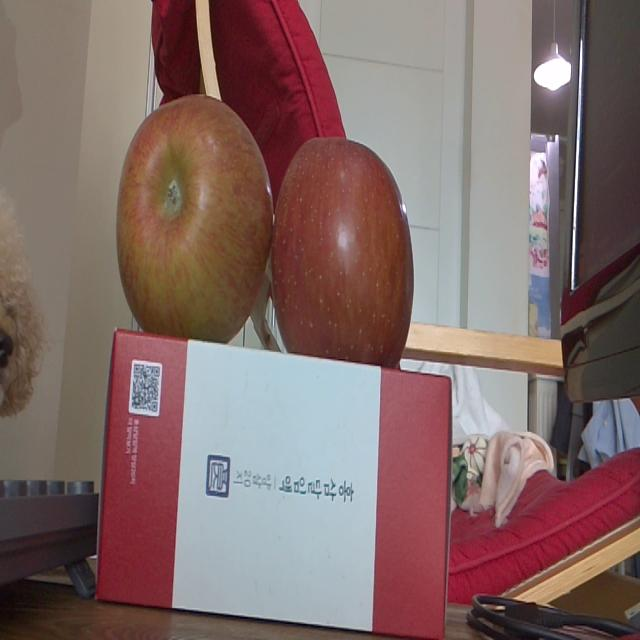apple: (117, 94, 270, 328), (274, 136, 414, 353)
